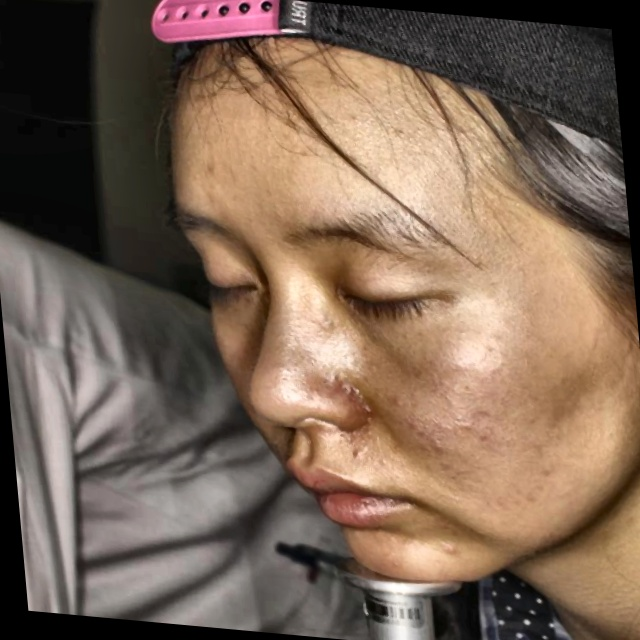comedone: (332, 371, 355, 403), (437, 538, 463, 562), (423, 434, 452, 453)
